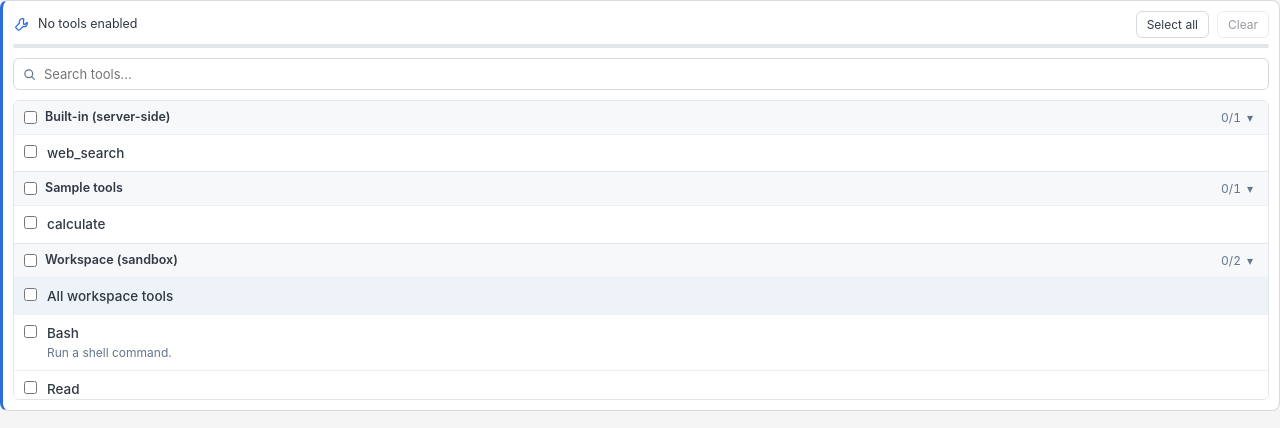
it: ToolCheckboxList › collapses and expands a group
Click the button with test id "tool-group-collapse-sandbox" at (1237, 260), box [1216,250,1258,270]
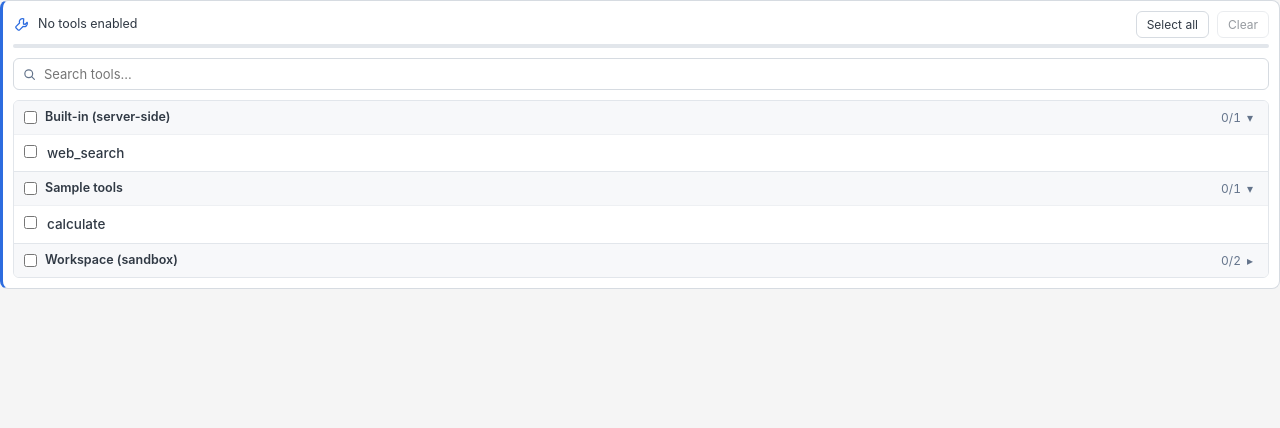
Now the button with test id "tool-group-collapse-sandbox" is collapsed, box [1216,250,1258,270]
